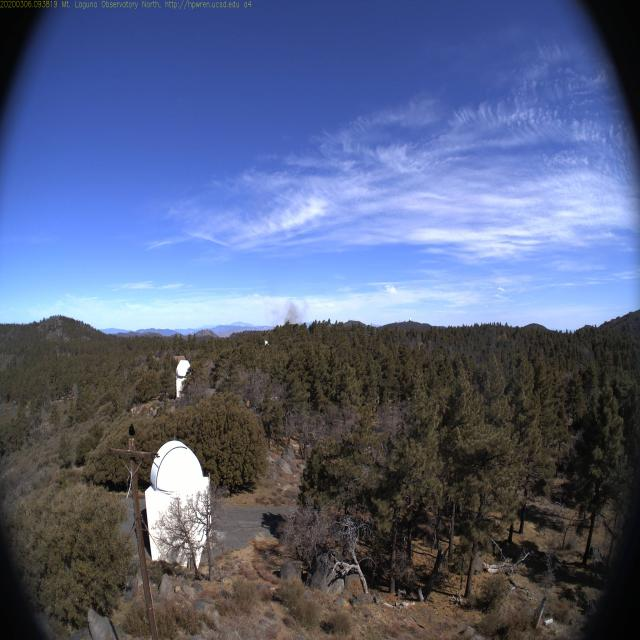smoke: (266, 302, 284, 326), (286, 296, 299, 323), (300, 296, 310, 321)
